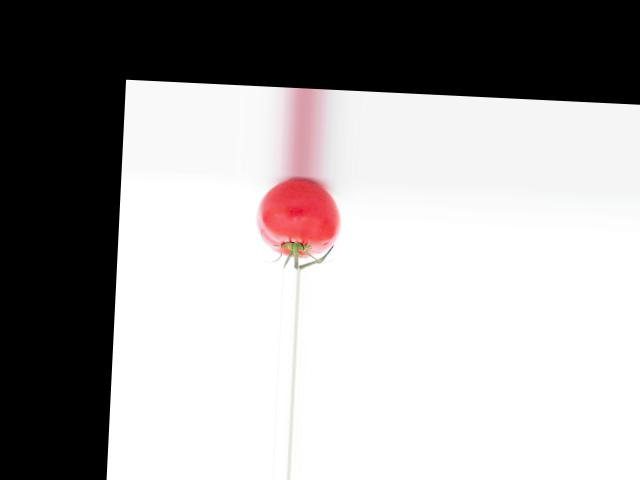tomato: (253, 176, 341, 259)
